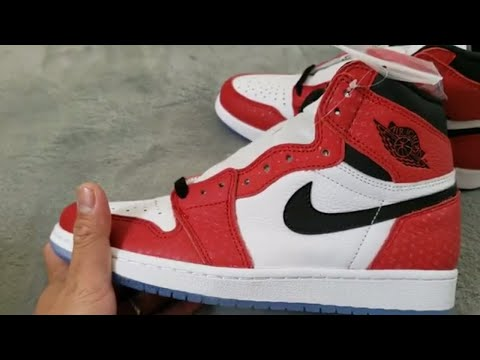Air Jordan 1 Spiderman: (42, 54, 463, 314)
